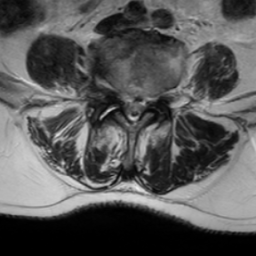CCS_normal: (128, 87, 137, 130)
LFS_stenosis: (147, 84, 159, 112)
LLS_stenosis: (137, 91, 147, 122)
RFS_severe_stenosis: (110, 76, 119, 104)
RLS_normal: (119, 86, 128, 120)
